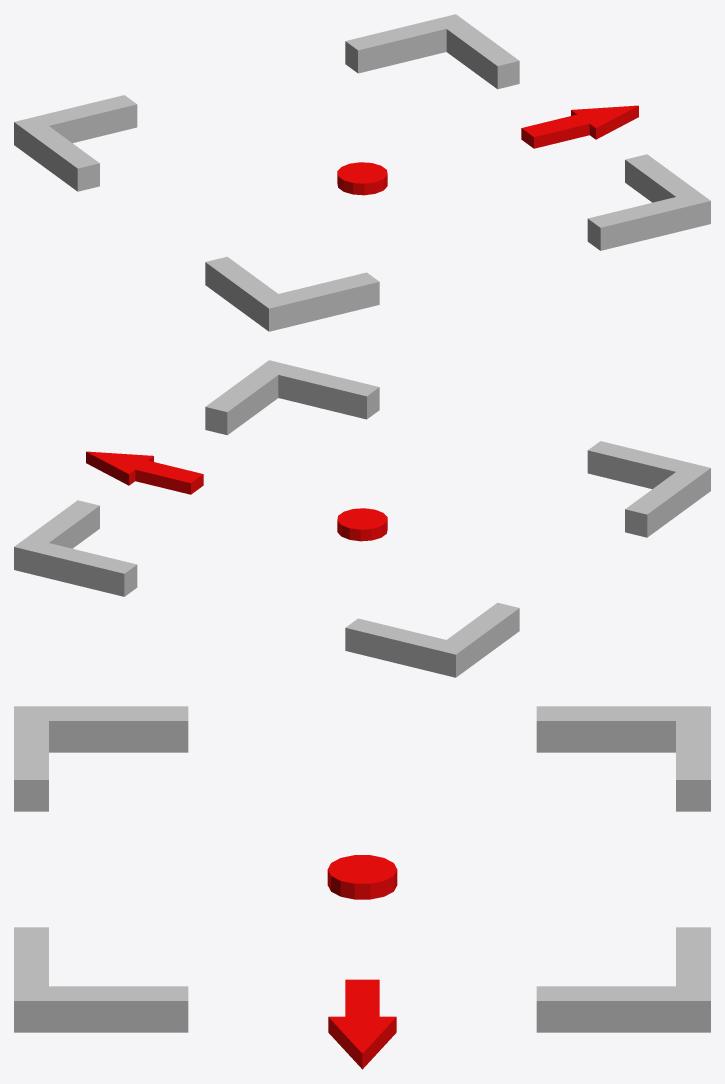
Rendered from cf_stand1.obj.
3 renders of one model, top to bottom at view 1: azimuth 30°, elevation 25°; view 2: azimuth 150°, elevation 25°; view 3: azimuth 270°, elevation 25°, orthographic. The views are drawn at different scales.
Parts seen in each view (by area): view 1: i_frame_Cube.001, i_pointer_Plane; view 2: i_frame_Cube.001, i_pointer_Plane; view 3: i_frame_Cube.001, i_pointer_Plane.
Part boxes in pixels (left/top/right/bottom): i_frame_Cube.001: left=14, top=14, right=710, bottom=331; i_pointer_Plane: left=337, top=105, right=638, bottom=195; i_frame_Cube.001: left=14, top=360, right=710, bottom=677; i_pointer_Plane: left=86, top=451, right=387, bottom=541; i_frame_Cube.001: left=14, top=706, right=710, bottom=1032; i_pointer_Plane: left=327, top=855, right=397, bottom=1069.
Size of the model in its own units: 4.5 by 0.2 by 4.
